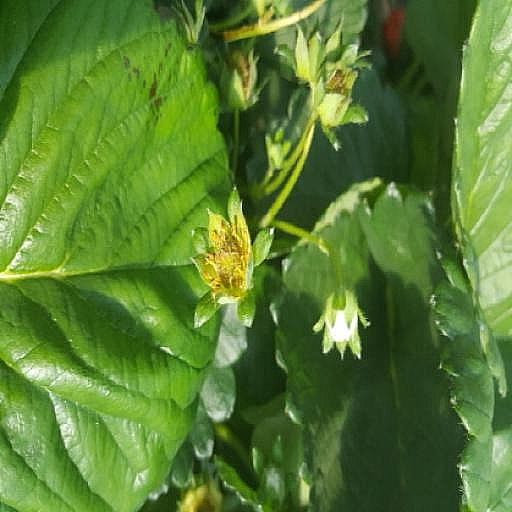Blossom Blight: (256, 209, 314, 300)
